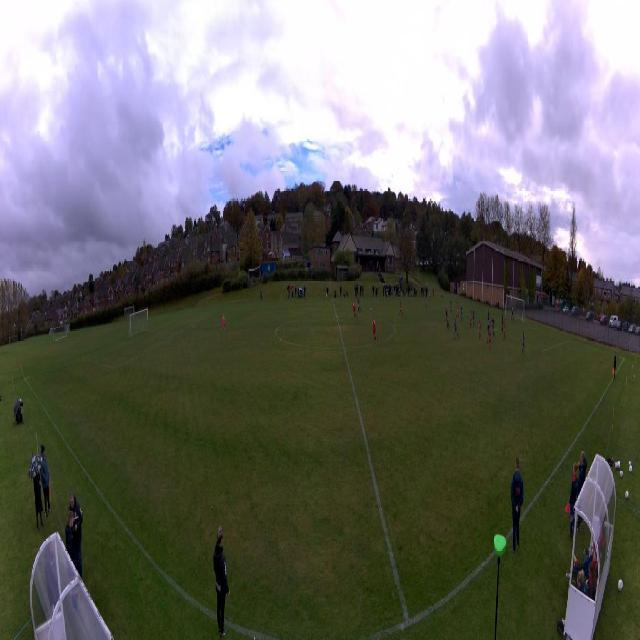ball: (370, 307, 372, 312)
player: (372, 317, 378, 343), (454, 318, 459, 339), (486, 322, 491, 343), (356, 295, 361, 313), (521, 333, 525, 355), (488, 330, 492, 352), (352, 301, 357, 318), (399, 301, 404, 318), (222, 314, 226, 334), (460, 304, 464, 323), (491, 320, 495, 338), (446, 313, 450, 330), (478, 318, 481, 339), (503, 320, 506, 340), (470, 310, 473, 328), (456, 303, 459, 321), (473, 309, 476, 327), (511, 305, 514, 322), (450, 299, 453, 314), (502, 314, 504, 332), (445, 307, 447, 322), (424, 295, 426, 307), (487, 309, 489, 319)
